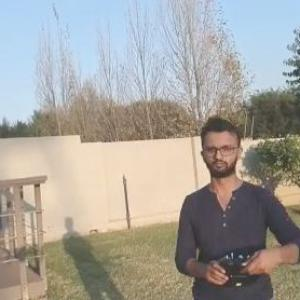follow: (163, 110, 300, 299)
